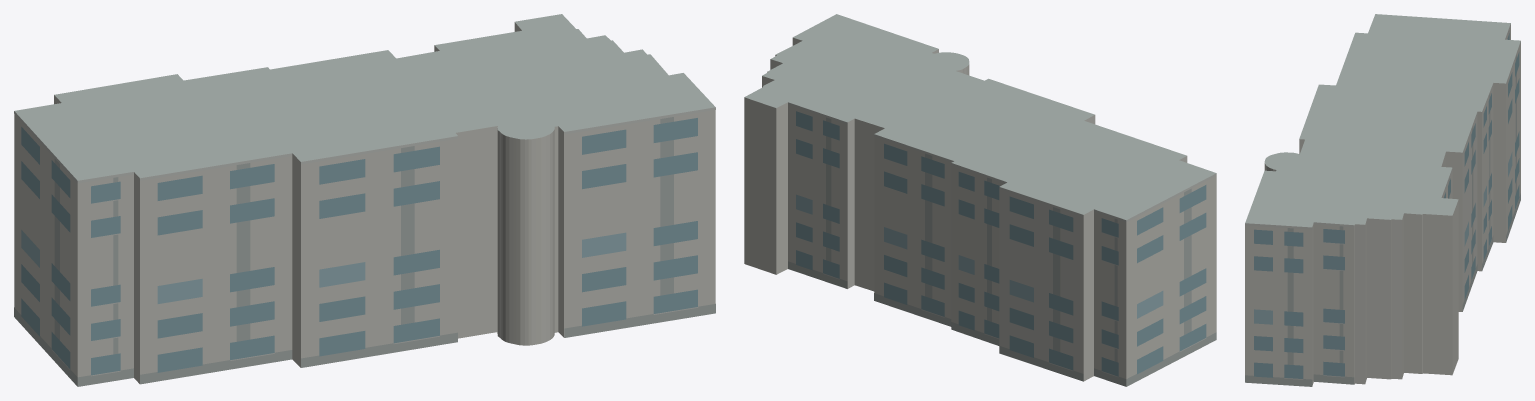
Rendered from survey-upis-32915635.glb.
The picture shows the model from 3 angles, left to right: view 1: azimuth 30°, elevation 25°; view 2: azimuth 150°, elevation 25°; view 3: azimuth 270°, elevation 25°; orthographic projection. The views are drawn at different scales.
Parts seen in each view (by area): view 1: survey-upis-32915635.tmp; view 2: survey-upis-32915635.tmp; view 3: survey-upis-32915635.tmp.
Part boxes in pixels (box(x1,y1,x2,y2)): survey-upis-32915635.tmp: box(14, 14, 715, 386); survey-upis-32915635.tmp: box(744, 14, 1216, 386); survey-upis-32915635.tmp: box(1245, 14, 1520, 386).
Size of the model in its own units: 52.52 by 18.3 by 28.69.
